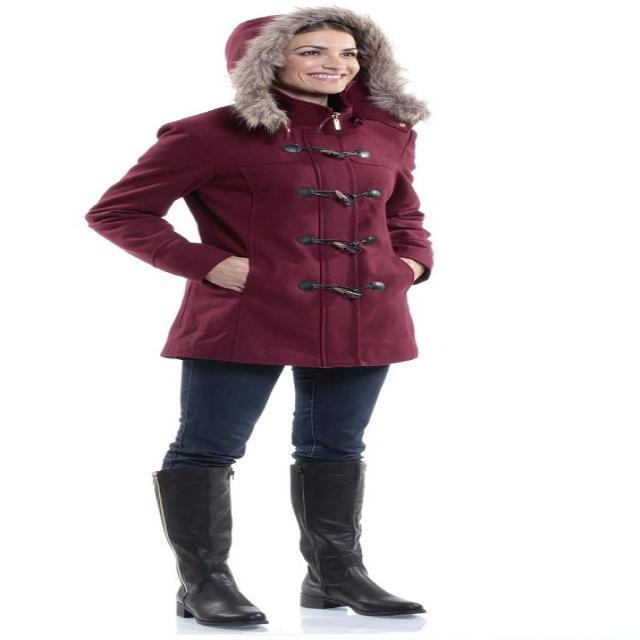coat: (82, 4, 437, 371)
trousers: (162, 347, 394, 470)
